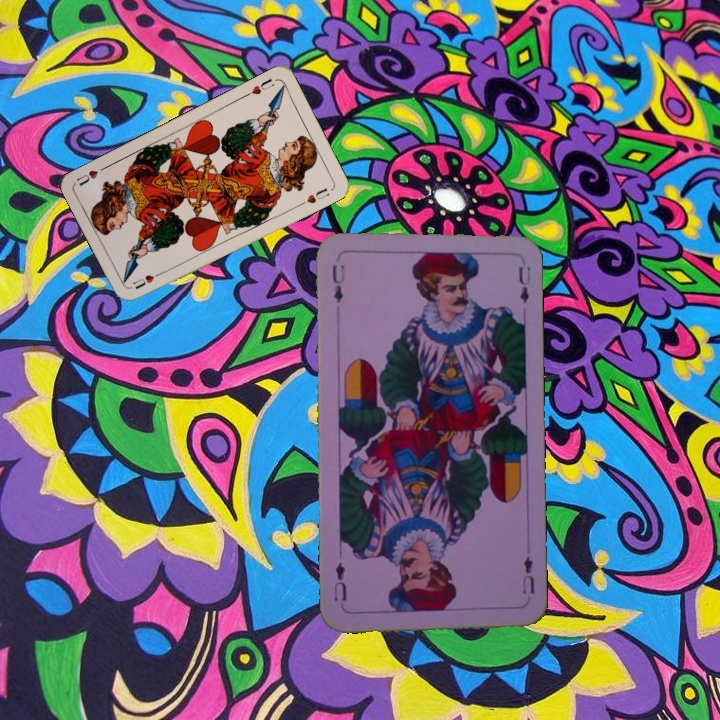EU: (328, 261, 347, 306), (518, 552, 537, 596)
HU: (241, 74, 277, 99), (129, 268, 166, 292)
